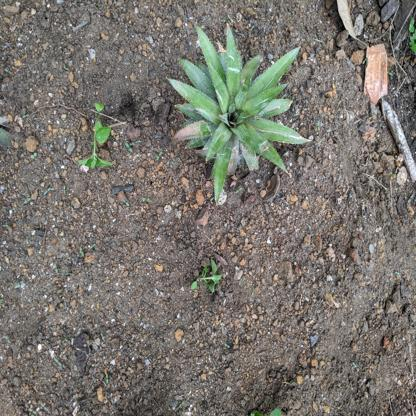pineapple: (164, 23, 310, 204)
weed: (81, 118, 120, 174), (189, 257, 229, 294)
